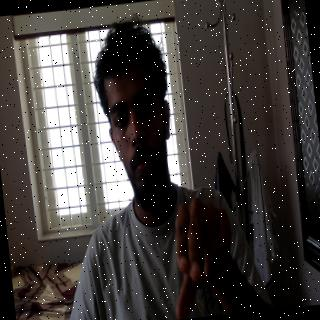No: (150, 170, 254, 311)
